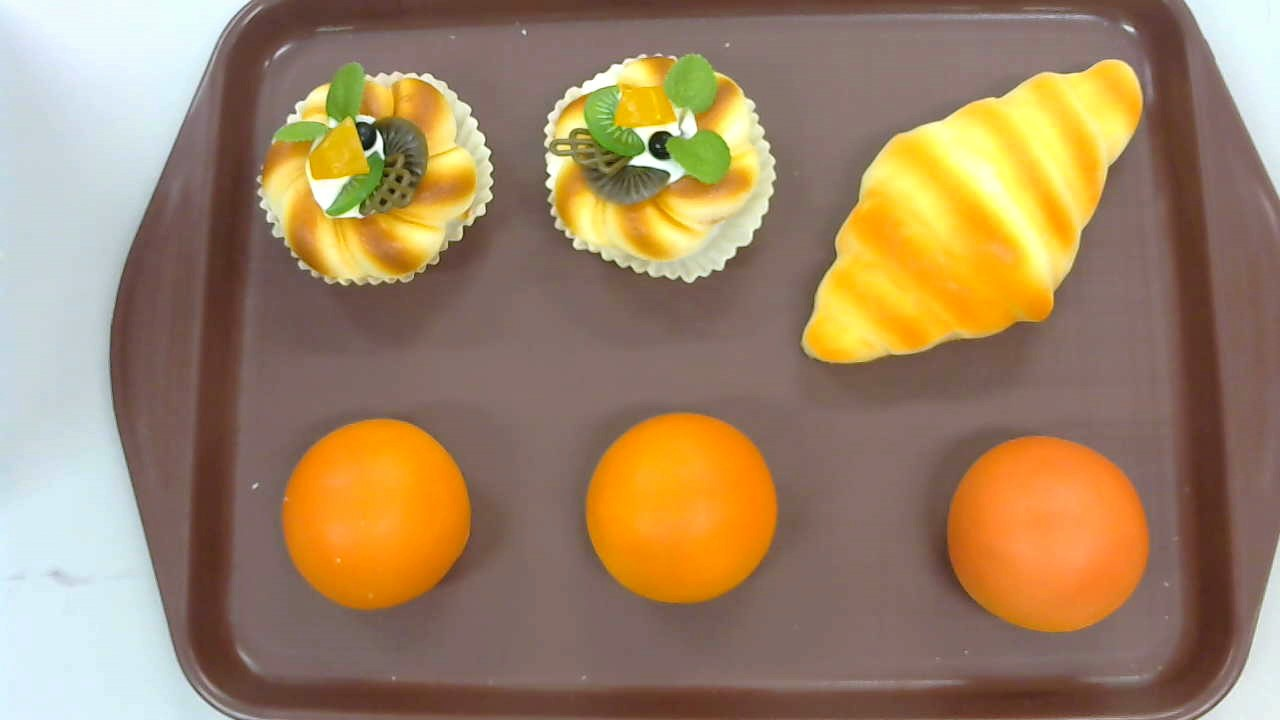bun: (946, 436, 1150, 633), (585, 411, 778, 606), (281, 418, 470, 609)
croissant: (800, 58, 1144, 366)
fruit tart: (257, 62, 496, 291), (544, 53, 776, 284)
